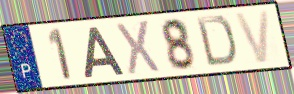1: (46, 26, 74, 81)
8: (162, 16, 196, 72)
A: (83, 25, 127, 80)
D: (194, 14, 238, 69)
V: (232, 9, 272, 65)
X: (114, 18, 162, 77)
